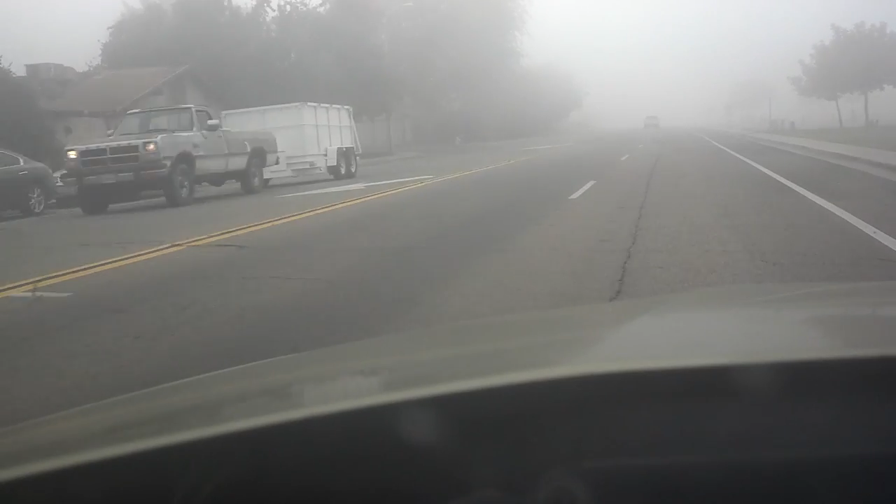car: (62, 101, 362, 215), (1, 146, 56, 220), (49, 152, 122, 205), (642, 113, 661, 127)
